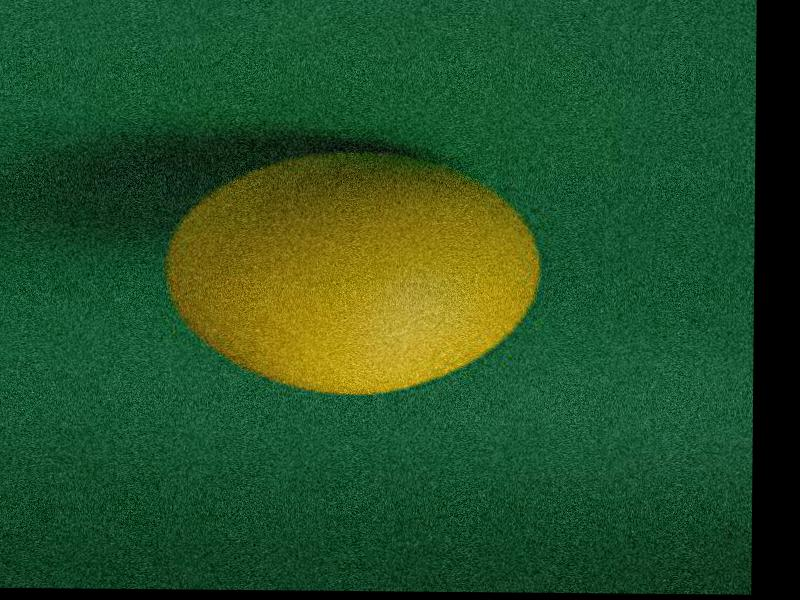Eggs: (176, 148, 545, 398)
